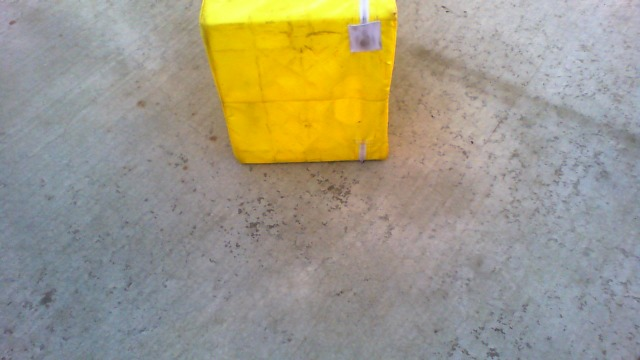cube: (200, 1, 403, 177)
